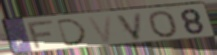8: (181, 8, 207, 36)
D: (56, 17, 90, 48)
F: (26, 19, 56, 51)
O: (147, 9, 180, 39)
V: (114, 11, 144, 42), (85, 14, 114, 45)
